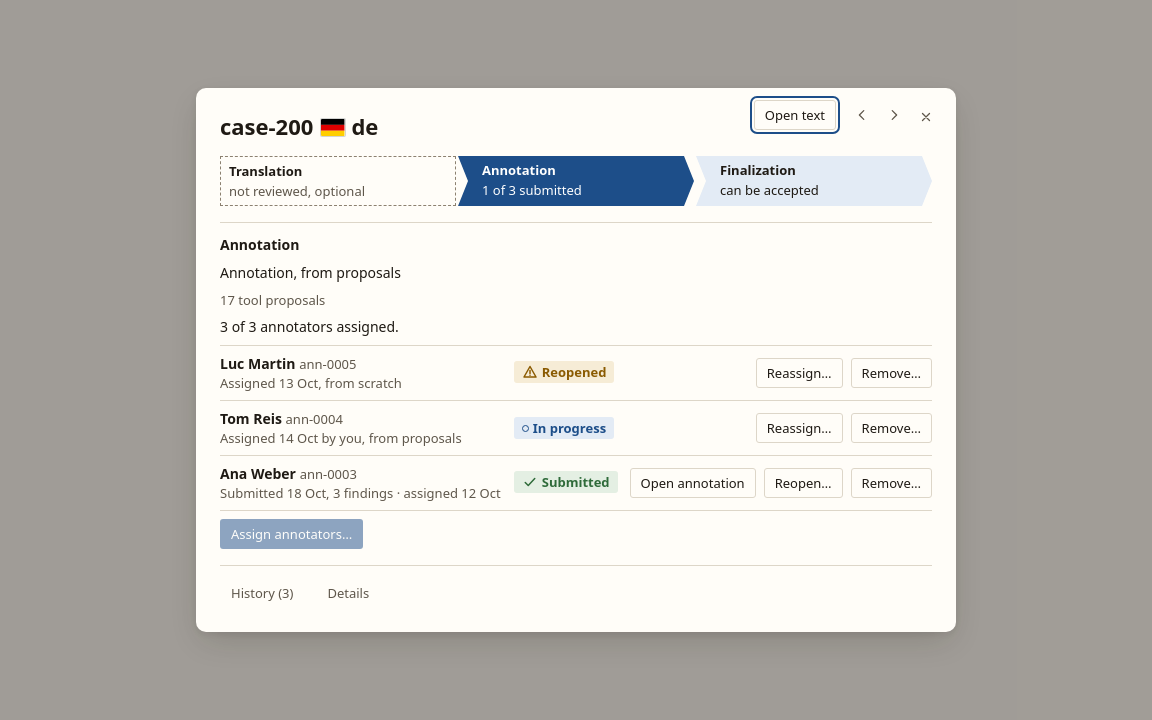
Test: annotation part › one row per person: unsubmitted first, each with only their own actions named after them (#108)
Expected: the link with aria-label "Open annotation of Ana Weber" is shown, [630,468,756,498]
Expected: the list item that starts with "Luc Martin" shows "Reopened", [542,363,606,381]
Click the button with aria-label "Reopen Ana Weber’s annotation" at (803, 483), box [764,468,843,498]
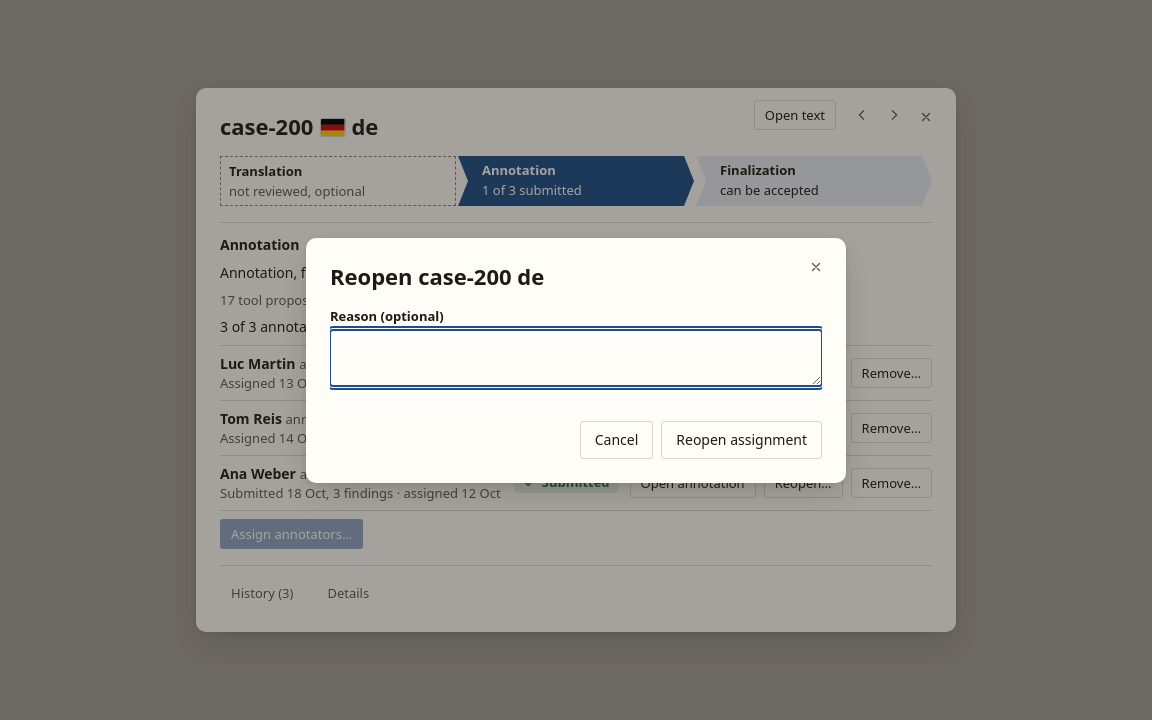
Expected: the dialog "Reopen case-200 de" is shown, [306,238,846,482]
Click the button "Cancel" at (616, 440), box [580,420,653,458]
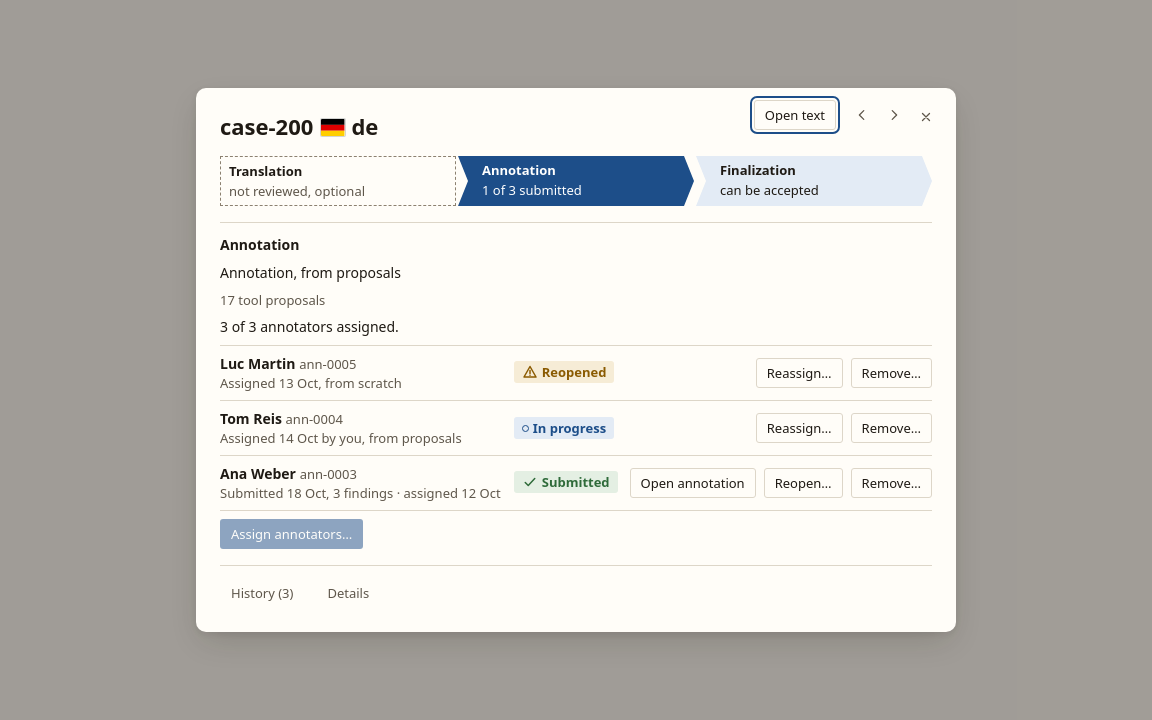
Click the button with aria-label "Remove Luc Martin’s assignment" at (891, 373), box [851,358,932,388]
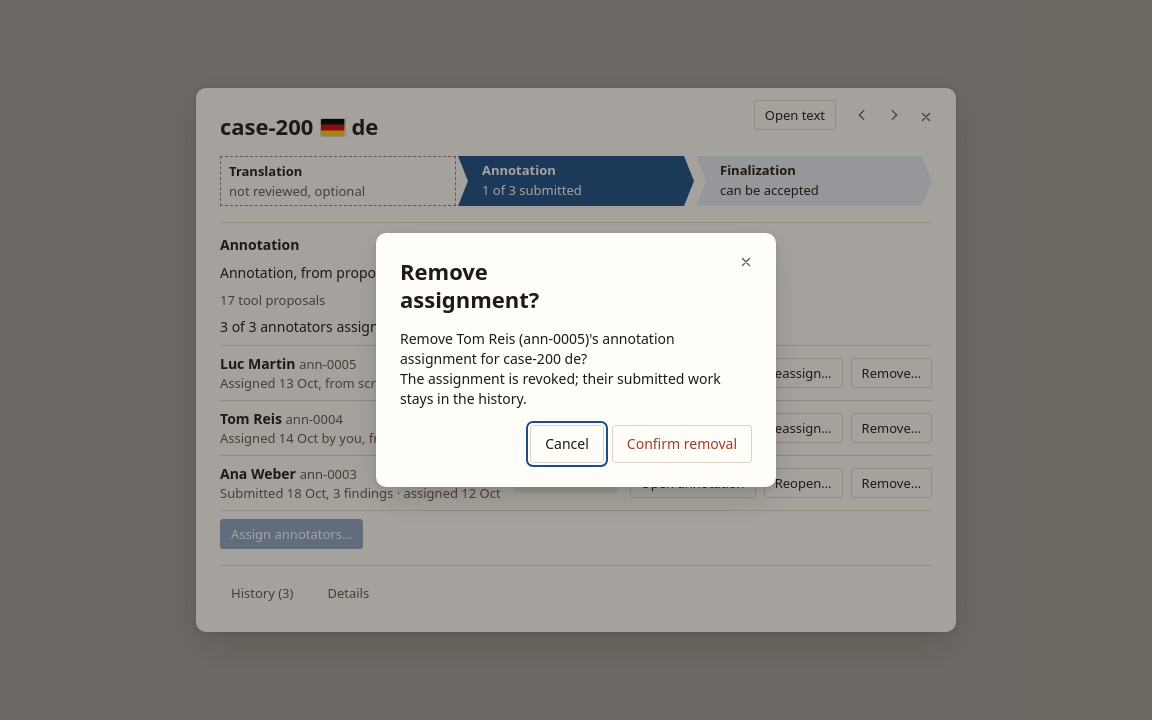
Expected: the dialog "Remove assignment?" shows "The assignment is revoked; their submitted work stays in the history.", [400,369,721,408]
Click the button "Cancel" at (567, 444), box [530,425,604,463]
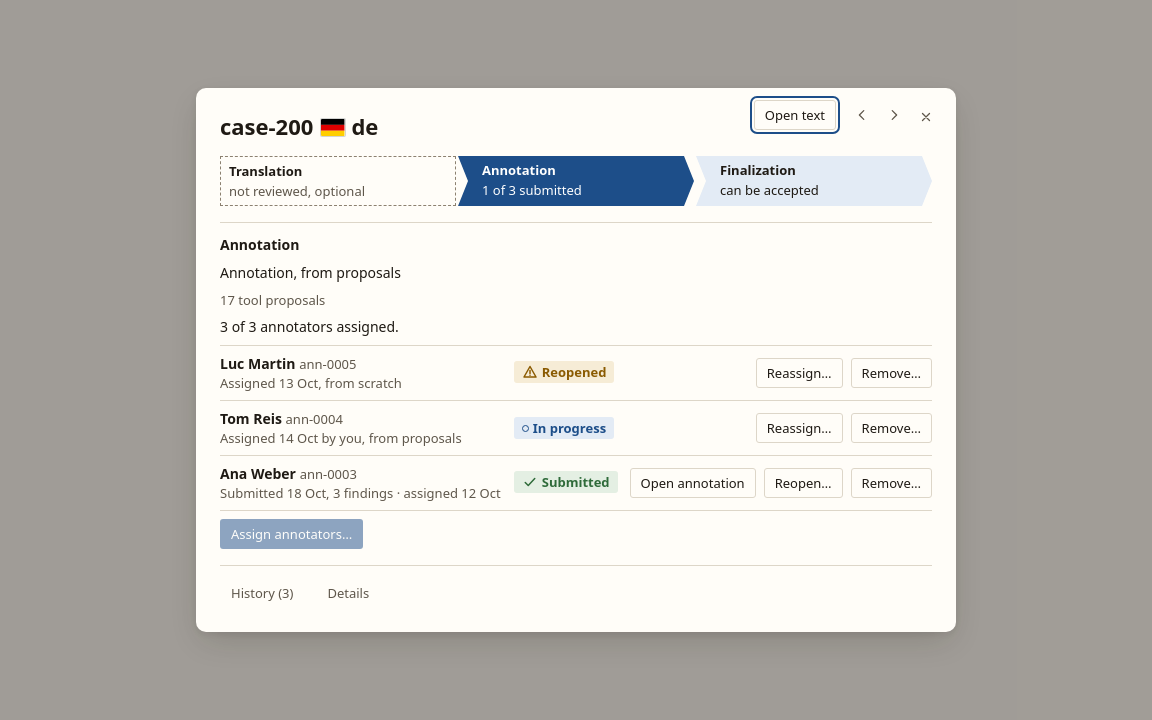
Click the button with aria-label "Reassign Tom Reis’s annotation" at (799, 428), box [756,413,843,443]
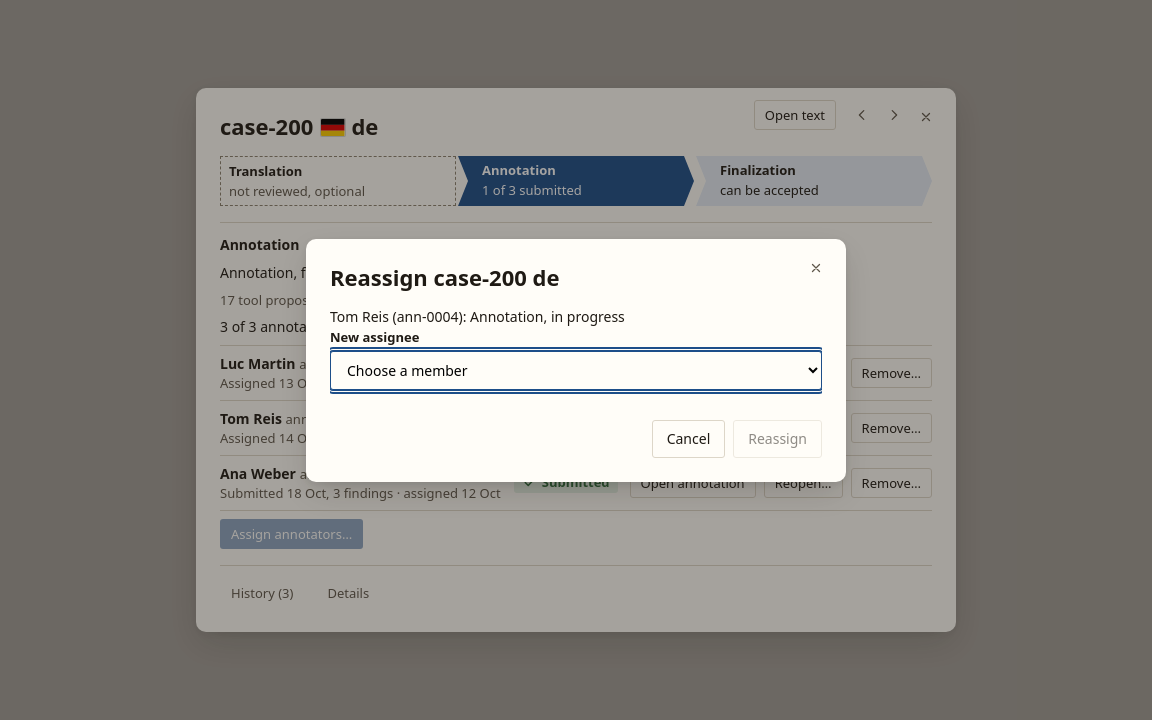
Expected: the dialog "Reassign case-200 de" is shown, [306,238,846,482]
